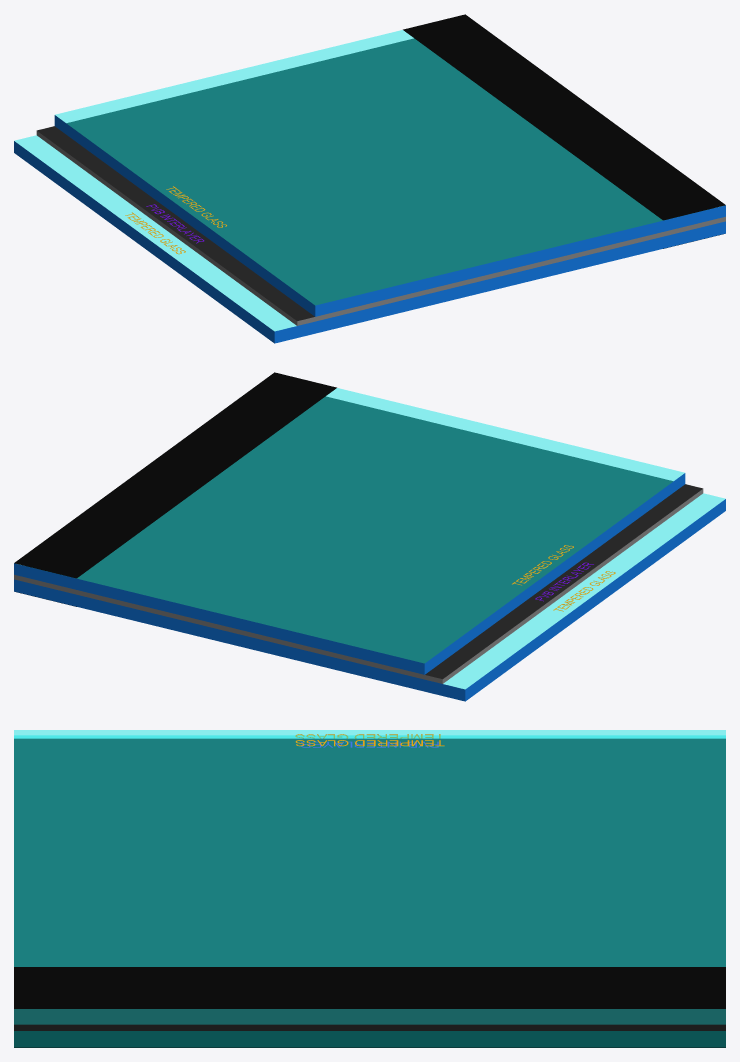
The model's file is laminated-marine-safety-glass.glb.
3 renders of one model, top to bottom at view 1: azimuth 30°, elevation 25°; view 2: azimuth 150°, elevation 25°; view 3: azimuth 270°, elevation 25°, orthographic. The views are drawn at different scales.
Parts seen in each view (by area): view 1: yeni kesit 2_e87d76, yeni kesit 2_cf7912, yeni kesit 2_e00911, yeni kesit 2_7d3978, yeni kesit 2_1d40e2, yeni kesit 2_db1175; view 2: yeni kesit 2_e87d76, yeni kesit 2_cf7912, yeni kesit 2_e00911, yeni kesit 2_7d3978, yeni kesit 2_1d40e2, yeni kesit 2_db1175; view 3: yeni kesit 2_e87d76, yeni kesit 2_cf7912, yeni kesit 2_7d3978, yeni kesit 2_db1175.
Boxes of the visible parts, box(x1,y1,x2,y2) form: yeni kesit 2_e87d76: box(14, 30, 662, 331); yeni kesit 2_cf7912: box(37, 38, 662, 321); yeni kesit 2_e00911: box(14, 115, 725, 343); yeni kesit 2_7d3978: box(403, 14, 725, 248); yeni kesit 2_1d40e2: box(36, 131, 725, 325); yeni kesit 2_db1175: box(125, 186, 227, 254); yeni kesit 2_e87d76: box(77, 388, 725, 689); yeni kesit 2_cf7912: box(77, 396, 702, 679); yeni kesit 2_e00911: box(14, 473, 725, 701); yeni kesit 2_7d3978: box(14, 372, 336, 606); yeni kesit 2_1d40e2: box(14, 489, 703, 683); yeni kesit 2_db1175: box(512, 545, 615, 611); yeni kesit 2_e87d76: box(14, 730, 725, 1047); yeni kesit 2_cf7912: box(14, 738, 725, 1030); yeni kesit 2_7d3978: box(14, 967, 725, 1047); yeni kesit 2_db1175: box(295, 734, 444, 746).
Size of the model in its own units: 0.5 by 0.0302 by 0.5.
